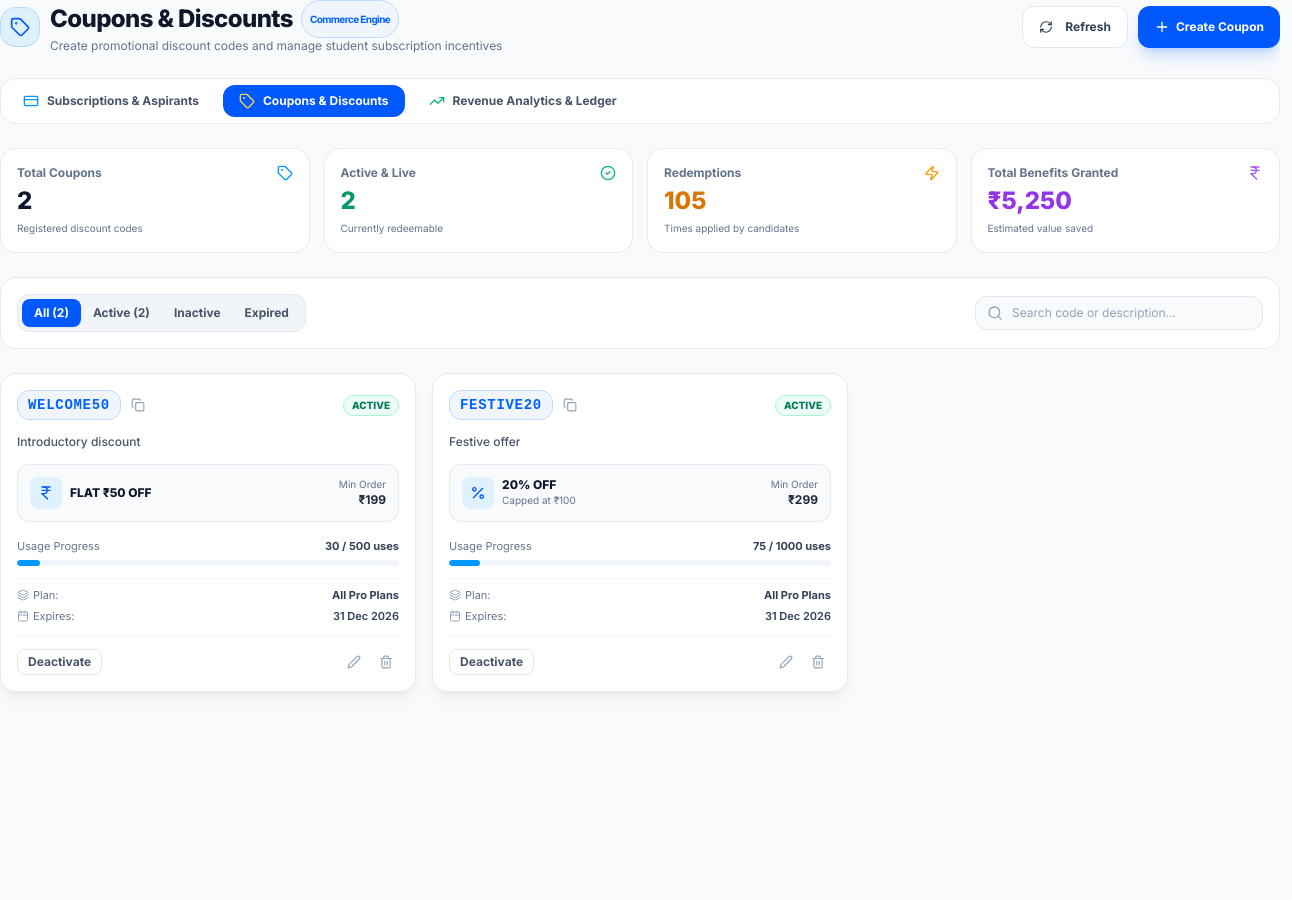
Scenario: AdminCoupons Page › filters coupons by search term
Expected: the text "WELCOME50" is shown, left=17, top=390, right=121, bottom=420
Type "FESTIVE" into the field with placeholder "Search code or description..." at (1119, 313), box left=975, top=296, right=1263, bottom=330
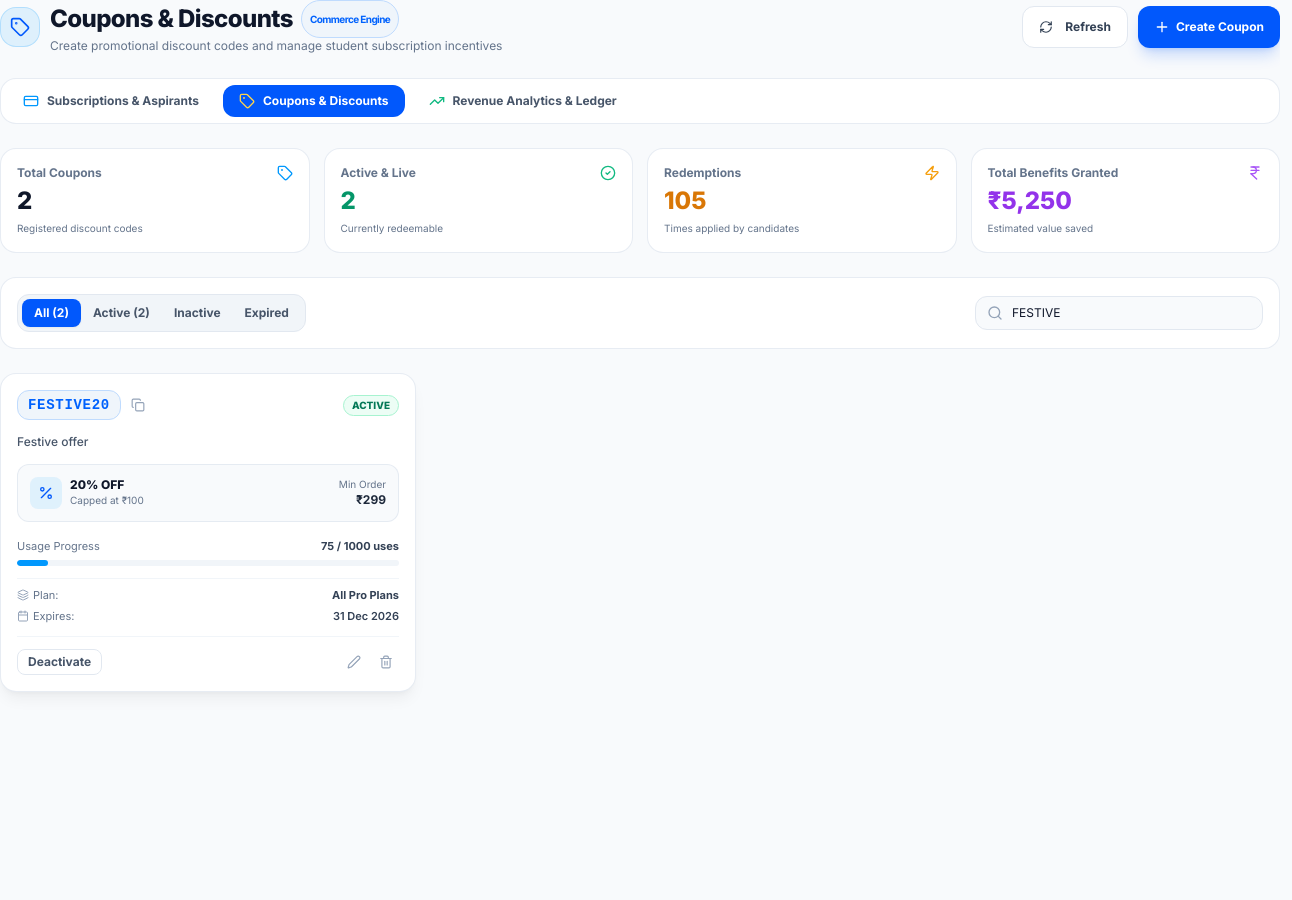
Expected: the text "FESTIVE20" is shown, left=17, top=390, right=121, bottom=420
Expected: the text "WELCOME50" is gone
